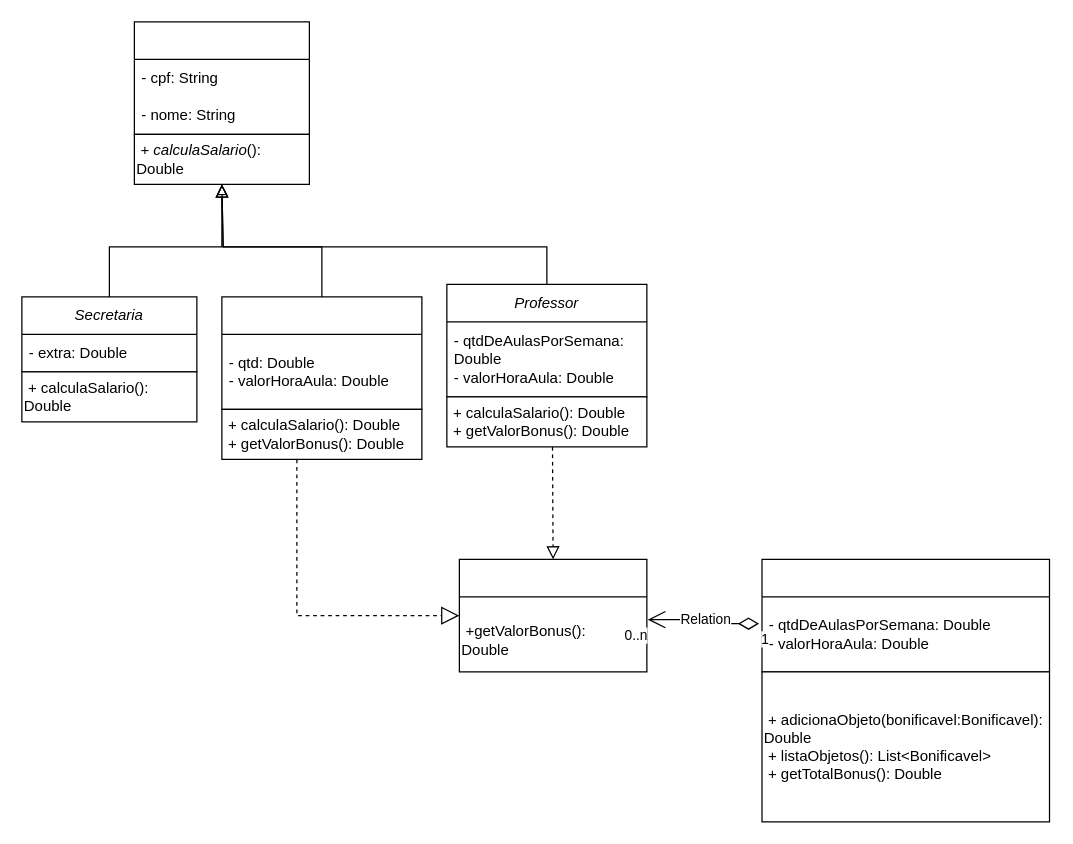
Image size: 1073x844. Some labels were removed from this diagram. The shapes that lost their labels are listed below. From the top down, each one's box as (x1, y1, x2, y2) in pixels, then its label:
(133, 21, 309, 134): Funcionario
(221, 296, 422, 409): Coordenador
(458, 558, 647, 672): <<interface>> IBonificavel
(761, 558, 1050, 672): ControleBonus
